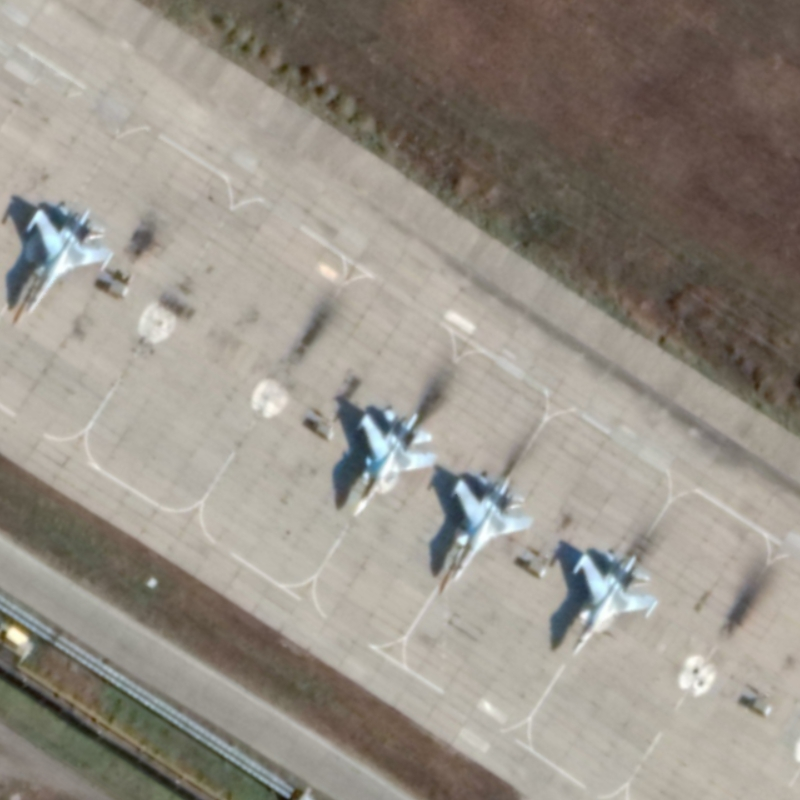A1: (436, 473, 534, 598), (565, 549, 663, 659), (23, 206, 114, 321), (349, 409, 436, 521)
